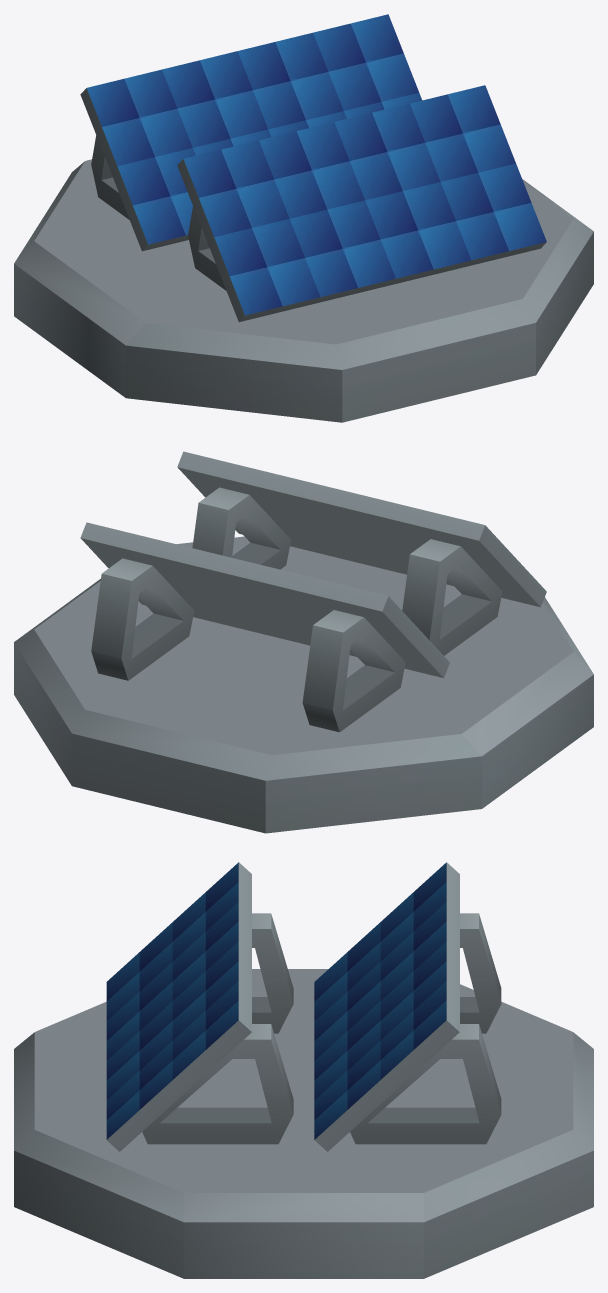
File: solar-roof-DjoWpyef.glb
3 renders of one model, top to bottom at view 1: azimuth 30°, elevation 25°; view 2: azimuth 150°, elevation 25°; view 3: azimuth 270°, elevation 25°, orthographic. The views are drawn at different scales.
Parts seen in each view (by area): view 1: roofmodule_solarpanels; view 2: roofmodule_solarpanels; view 3: roofmodule_solarpanels.
Part boxes in pixels (x1,y1,x2,y2): roofmodule_solarpanels: (14,14,593,422); roofmodule_solarpanels: (14,451,593,833); roofmodule_solarpanels: (14,862,593,1278).
Size of the model in its own units: 1.4 by 0.571 by 1.4.
Materials: 1 (1 with a texture image).
